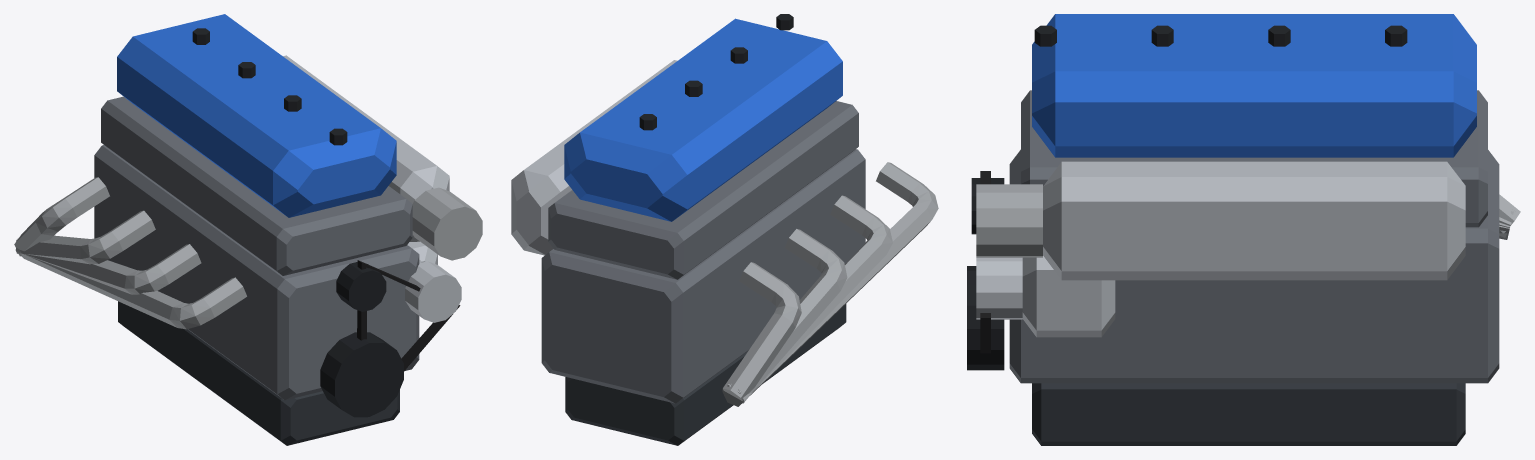
File: crate_kmw_i4_16.glb
3 views of the same model, side by side, from view 1: azimuth 30°, elevation 25°; view 2: azimuth 150°, elevation 25°; view 3: azimuth 270°, elevation 25° (orthographic). The views are drawn at different scales.
Parts seen in each view (by area): view 1: model; view 2: model; view 3: model.
Part boxes in pixels (bbox=[...]): model: bbox=[14, 14, 482, 445]; model: bbox=[511, 14, 938, 445]; model: bbox=[967, 14, 1520, 445].
Size of the model in its own units: 0.4392 by 0.4557 by 0.5974.
3 materials, 1 textured.
